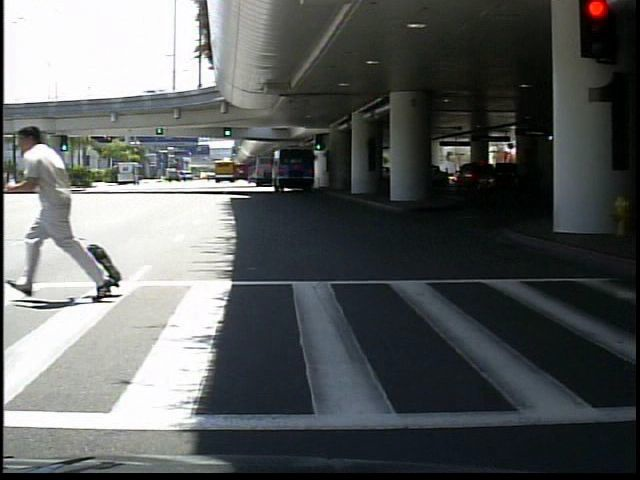person: (25, 123, 111, 303)
